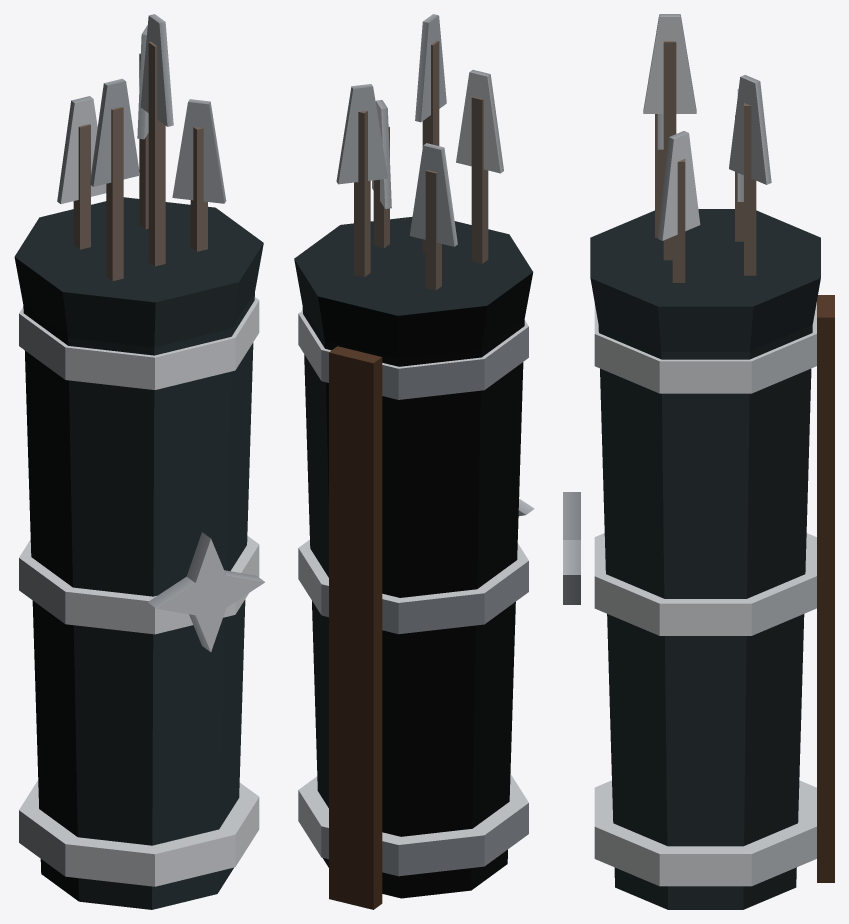
Rendered from ranger_off_2.gltf.
3 views of the same model, side by side, from view 1: azimuth 30°, elevation 25°; view 2: azimuth 150°, elevation 25°; view 3: azimuth 270°, elevation 25° (orthographic). The views are drawn at different scales.
Parts seen in each view (by area): view 1: ranger_off_2; view 2: ranger_off_2; view 3: ranger_off_2.
Boxes of the visible parts, box(x1,y1,x2,y2) form: ranger_off_2: box(14, 14, 264, 909); ranger_off_2: box(294, 14, 534, 909); ranger_off_2: box(563, 14, 834, 909).
Size of the model in its own units: 0.2587 by 1.08 by 0.305.
1 material, 1 textured.
